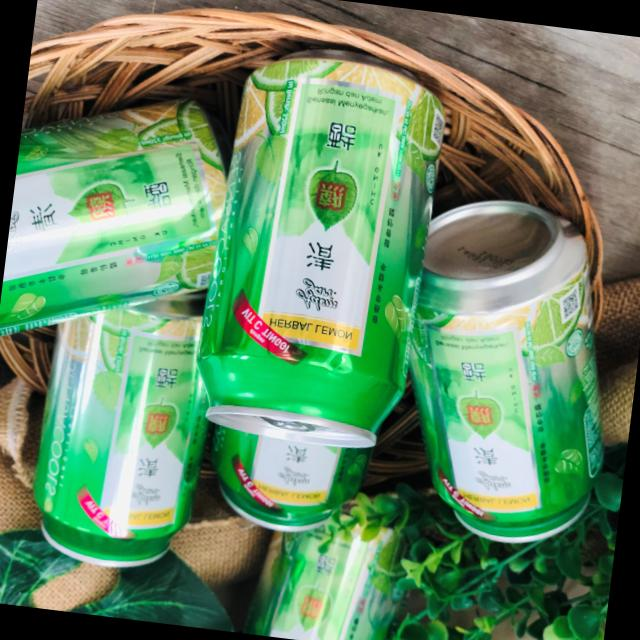ademsarikaleng: (186, 36, 453, 457), (385, 188, 633, 554)
